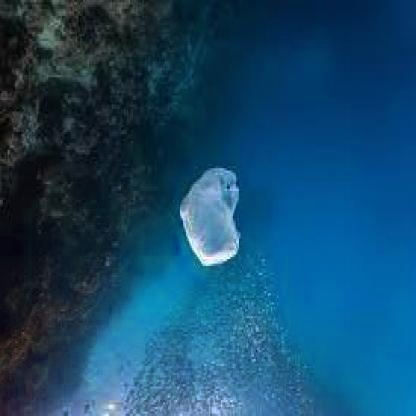pbag: (178, 166, 240, 266)
